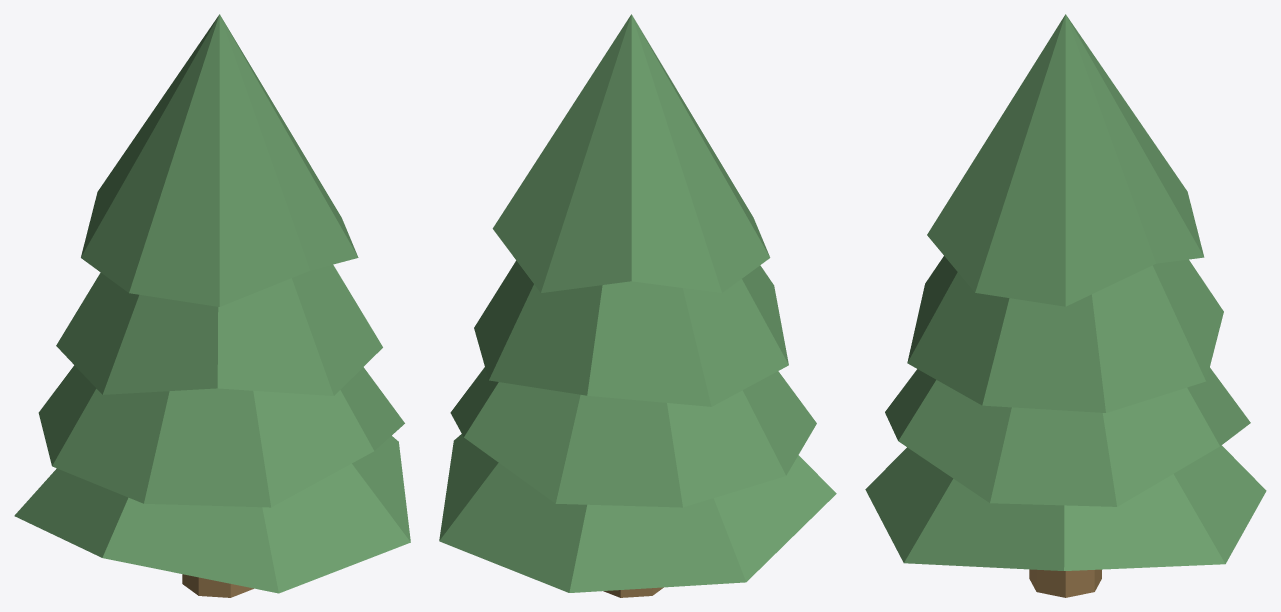
File: arbol3.fbx
3 views of the same model, side by side, from view 1: azimuth 30°, elevation 25°; view 2: azimuth 150°, elevation 25°; view 3: azimuth 270°, elevation 25° (orthographic).
Visible parts, largest first — view 1: pCone4, pCone2, pCone1, pCone3, pCylinder1; view 2: pCone4, pCone2, pCone1, pCone3; view 3: pCone4, pCone3, pCone1, pCone2, pCylinder1.
Part boxes in pixels (bbox=[...]): pCone4: bbox=[81, 14, 358, 306]; pCone2: bbox=[38, 365, 404, 507]; pCone1: bbox=[14, 436, 410, 593]; pCone3: bbox=[56, 264, 382, 395]; pCylinder1: bbox=[182, 574, 253, 597]; pCone4: bbox=[492, 14, 770, 292]; pCone2: bbox=[450, 367, 816, 507]; pCone1: bbox=[439, 434, 836, 592]; pCone3: bbox=[474, 260, 788, 406]; pCone4: bbox=[927, 14, 1204, 306]; pCone3: bbox=[907, 256, 1223, 412]; pCone1: bbox=[865, 445, 1266, 570]; pCone2: bbox=[885, 367, 1250, 506]; pCylinder1: bbox=[1029, 569, 1101, 597].
Size of the model in its own units: 8.68 by 13.89 by 8.89.
